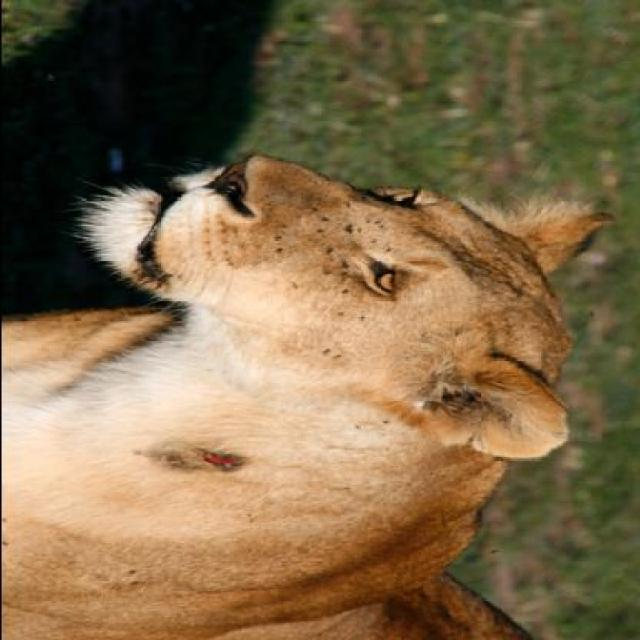Lion: (2, 143, 610, 635)
